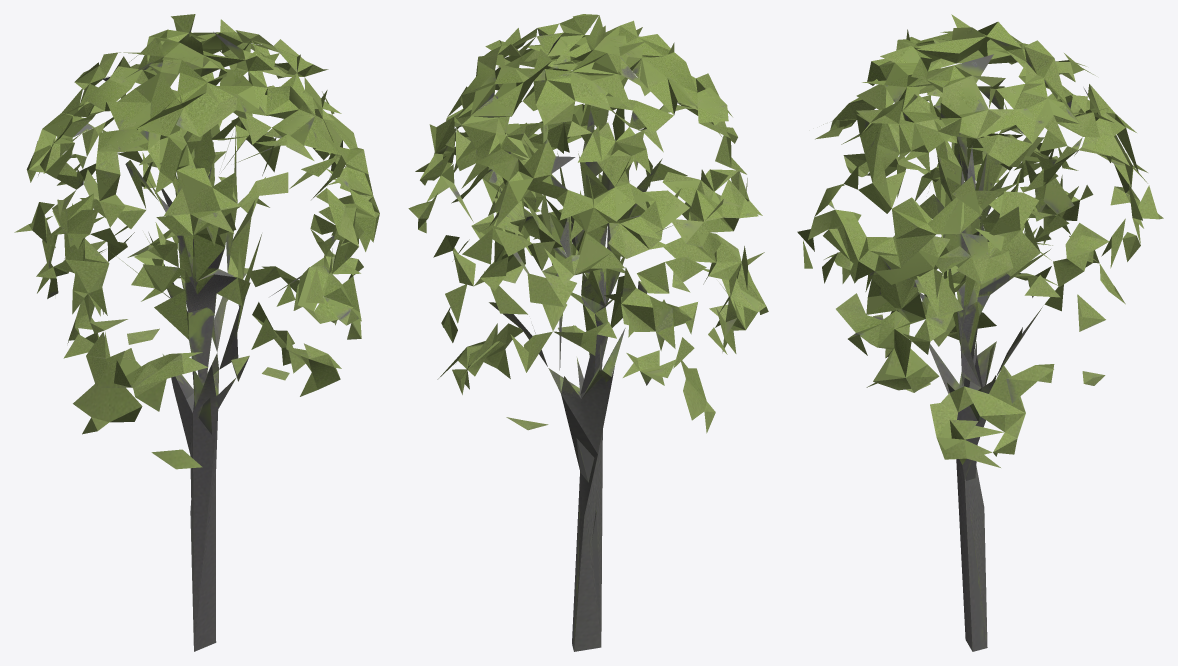
The model's file is tree.glb.
3 views of the same model, side by side, from view 1: azimuth 30°, elevation 25°; view 2: azimuth 150°, elevation 25°; view 3: azimuth 270°, elevation 25° (orthographic).
Size of the model in its own units: 0.9647 by 1.84 by 0.9967.
Materials: 1 (1 with a texture image).
